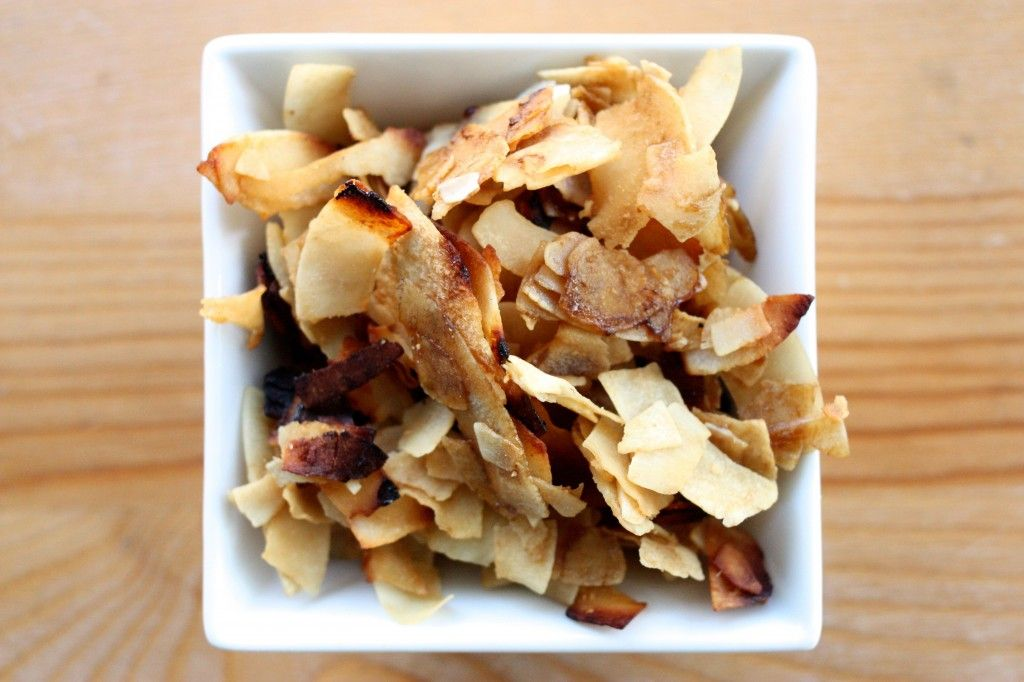bacon: (677, 231, 821, 428), (251, 335, 450, 475)
